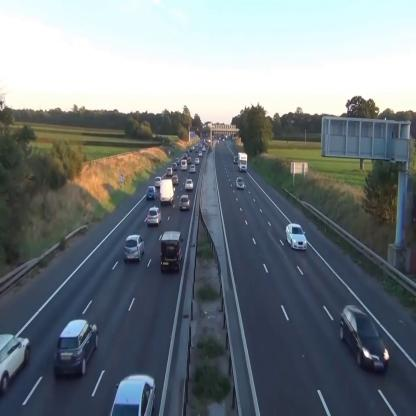car: (340, 306, 389, 374), (53, 319, 98, 376), (109, 374, 156, 416), (285, 222, 307, 252), (124, 234, 145, 262), (160, 180, 174, 204), (147, 207, 162, 226), (146, 185, 158, 200), (179, 195, 190, 210), (235, 178, 244, 190), (185, 179, 193, 190), (166, 167, 174, 176), (154, 177, 161, 187), (172, 176, 179, 185), (182, 159, 187, 170), (190, 164, 195, 172), (172, 162, 177, 170), (234, 155, 238, 163)
lorry: (161, 232, 183, 272), (238, 152, 248, 172)
